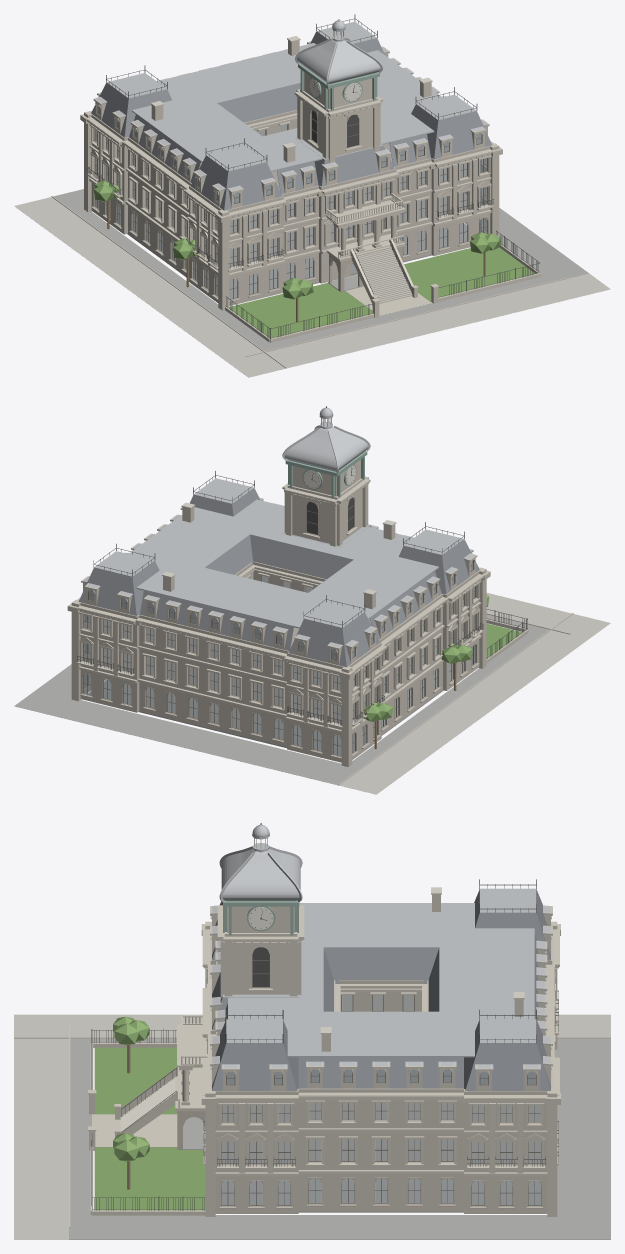
File: clay-second-empire-city-hall-clay-v001.glb
3 views of the same model, one above another, from view 1: azimuth 30°, elevation 25°; view 2: azimuth 150°, elevation 25°; view 3: azimuth 270°, elevation 25° (orthographic). The views are drawn at different scales.
Parts seen in each view (by area): view 1: CLAY_STONE, CLAY_ZINC, CLAY_CONCRETE, CLAY_WALL, CLAY_ROOF, CLAY_PLANTING, CLAY_FOUNDATION, CLAY_GLASS, CLAY_HARDWARE, CLAY_TRIM, CLAY_FLOOR, CLAY_RUSTIC (+2 smaller); view 2: CLAY_STONE, CLAY_ZINC, CLAY_WALL, CLAY_ROOF, CLAY_FOUNDATION, CLAY_CONCRETE, CLAY_GLASS, CLAY_TRIM, CLAY_FLOOR, CLAY_HARDWARE, CLAY_RUSTIC, CLAY_PLANTING (+1 smaller); view 3: CLAY_STONE, CLAY_ZINC, CLAY_FOUNDATION, CLAY_WALL, CLAY_ROOF, CLAY_CONCRETE, CLAY_PLANTING, CLAY_GLASS, CLAY_FLOOR, CLAY_HARDWARE, CLAY_TRIM, CLAY_RUSTIC (+2 smaller).
Boxes of the visible parts, x1,y1,x2,y2 form: CLAY_STONE: (51, 40, 570, 368); CLAY_ZINC: (95, 20, 489, 192); CLAY_CONCRETE: (14, 197, 610, 377); CLAY_WALL: (91, 110, 490, 305); CLAY_ROOF: (91, 31, 491, 210); CLAY_PLANTING: (93, 180, 534, 337); CLAY_FOUNDATION: (53, 189, 588, 351); CLAY_GLASS: (95, 104, 487, 298); CLAY_HARDWARE: (87, 14, 539, 339); CLAY_TRIM: (94, 104, 487, 299); CLAY_FLOOR: (107, 124, 480, 265); CLAY_RUSTIC: (91, 186, 488, 302); CLAY_STONE: (67, 459, 573, 785); CLAY_ZINC: (81, 407, 475, 649); CLAY_WALL: (77, 561, 480, 762); CLAY_ROOF: (78, 488, 479, 667); CLAY_FOUNDATION: (14, 614, 549, 785); CLAY_CONCRETE: (339, 593, 610, 794); CLAY_GLASS: (83, 560, 475, 755); CLAY_TRIM: (83, 500, 476, 756); CLAY_FLOOR: (103, 572, 463, 722); CLAY_HARDWARE: (77, 406, 527, 725); CLAY_RUSTIC: (80, 642, 479, 759); CLAY_PLANTING: (364, 595, 521, 721); CLAY_STONE: (14, 894, 610, 1228); CLAY_ZINC: (210, 825, 552, 1070); CLAY_FOUNDATION: (69, 1038, 610, 1239); CLAY_WALL: (210, 923, 552, 1213); CLAY_ROOF: (212, 890, 550, 1090); CLAY_CONCRETE: (14, 1014, 610, 1239); CLAY_PLANTING: (94, 1016, 205, 1210); CLAY_GLASS: (221, 995, 540, 1205); CLAY_FLOOR: (221, 995, 540, 1163); CLAY_HARDWARE: (91, 823, 558, 1210); CLAY_TRIM: (221, 954, 541, 1205); CLAY_RUSTIC: (177, 1045, 554, 1209).
Size of the model in its own units: 58 by 37 by 65.
